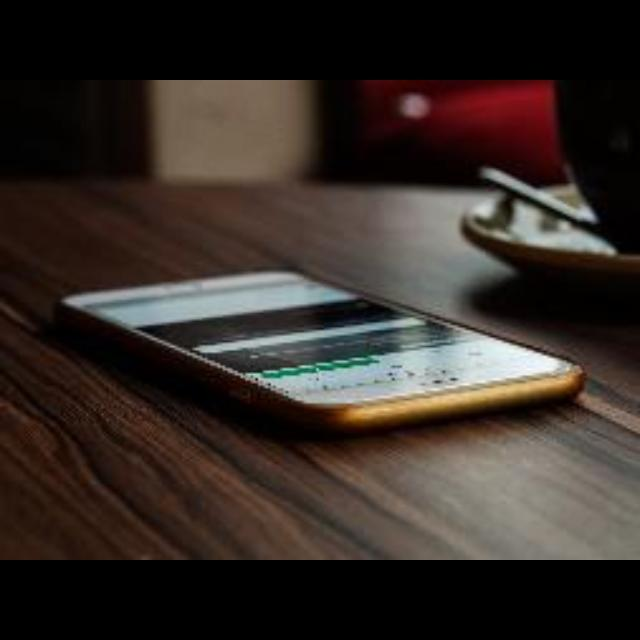Phone: (58, 272, 590, 440)
